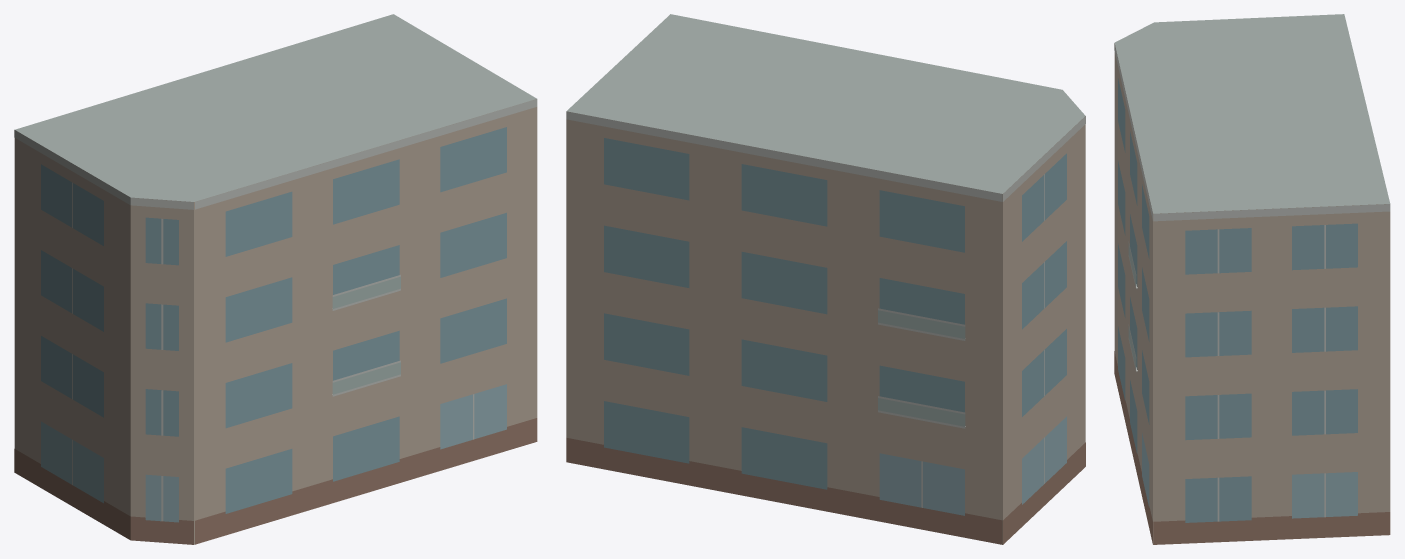
File: survey-upis-32627301.glb
The picture shows the model from 3 angles, left to right: view 1: azimuth 30°, elevation 25°; view 2: azimuth 150°, elevation 25°; view 3: azimuth 270°, elevation 25°; orthographic projection. The views are drawn at different scales.
Parts seen in each view (by area): view 1: survey-upis-32627301.tmp; view 2: survey-upis-32627301.tmp; view 3: survey-upis-32627301.tmp.
Part boxes in pixels (<box>): survey-upis-32627301.tmp: <box>14,14,537,544</box>; survey-upis-32627301.tmp: <box>566,14,1085,544</box>; survey-upis-32627301.tmp: <box>1114,14,1390,544</box>.
Size of the model in its own units: 13.72 by 10.6 by 8.01.
